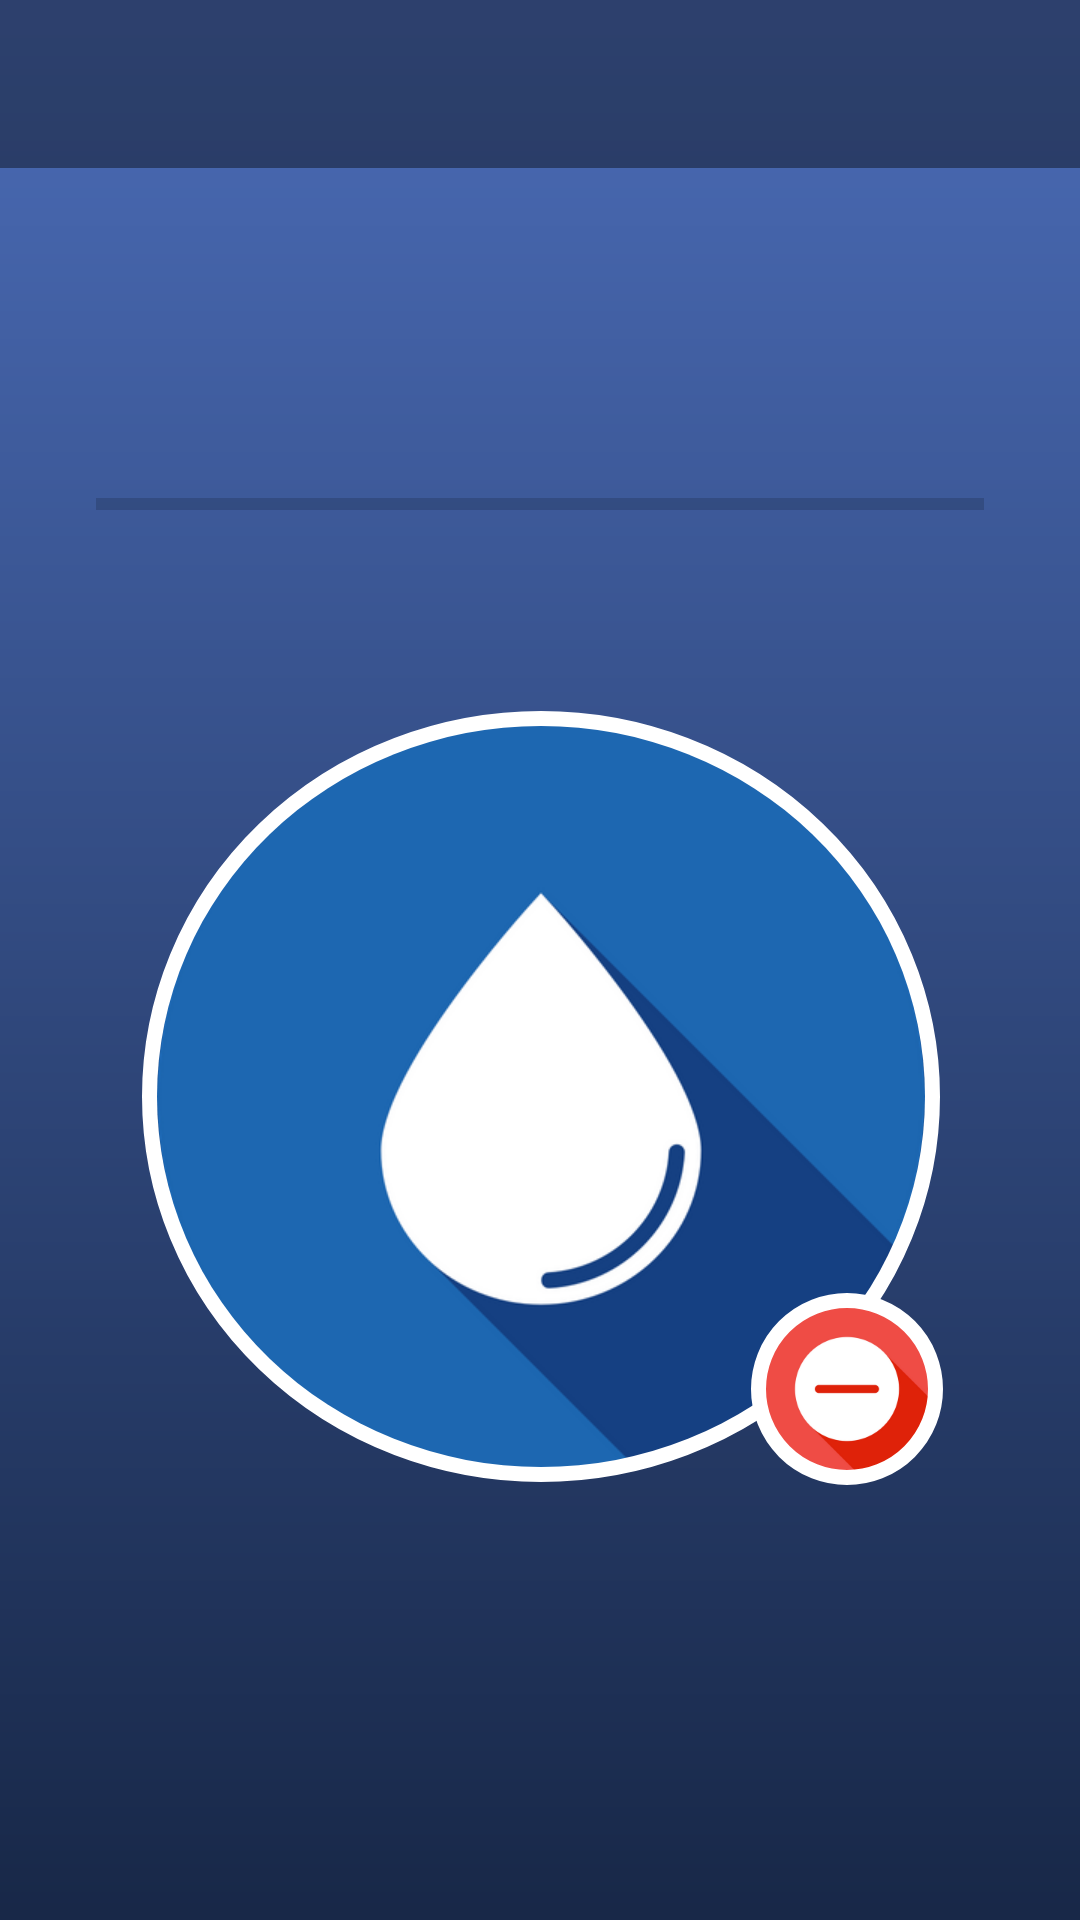

Icons on this 1080 × 1920 Android screen, each with the point to tap as point (x, y):
minus: point (847, 1389)
